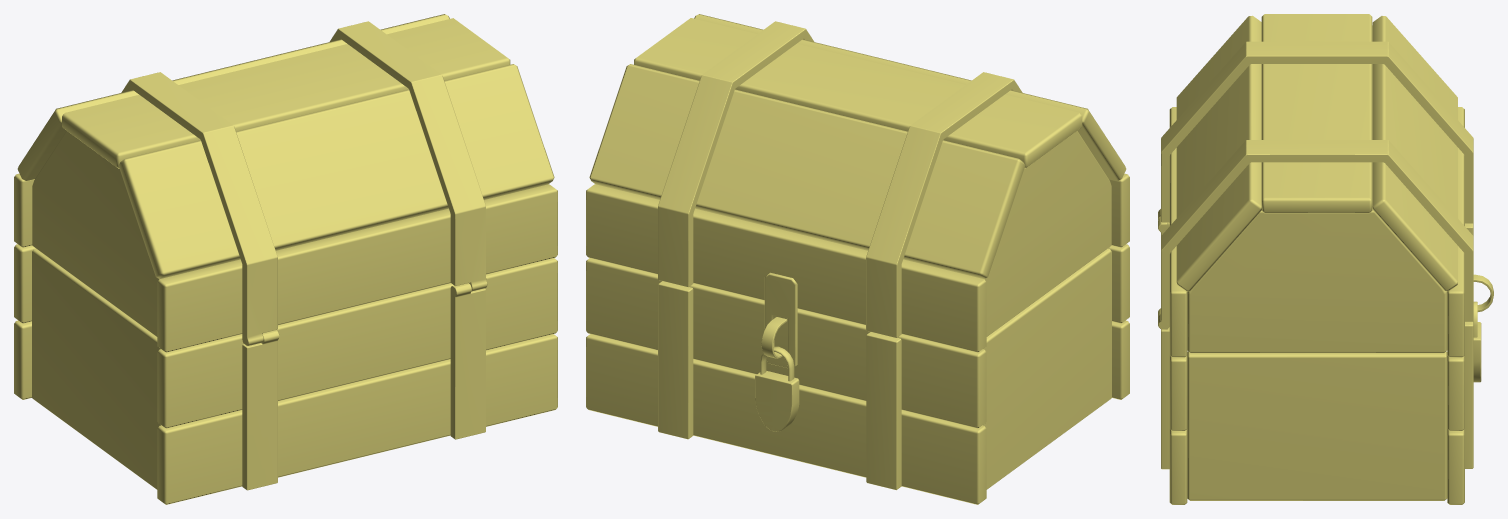
Rendered from HalloweenRoomA_Treasurebox.fbx.
3 renders of one model, left to right at view 1: azimuth 30°, elevation 25°; view 2: azimuth 150°, elevation 25°; view 3: azimuth 270°, elevation 25°, orthographic. The views are drawn at different scales.
Parts seen in each view (by area): view 1: HalloweenRoomA_Treasurebox; view 2: HalloweenRoomA_Treasurebox; view 3: HalloweenRoomA_Treasurebox.
Boxes of the visible parts, x1,y1,x2,y2 form: HalloweenRoomA_Treasurebox: (14,14,557,504); HalloweenRoomA_Treasurebox: (586,14,1129,504); HalloweenRoomA_Treasurebox: (1158,14,1493,504).
Size of the model in its own units: 75 by 59.23 by 57.16.
